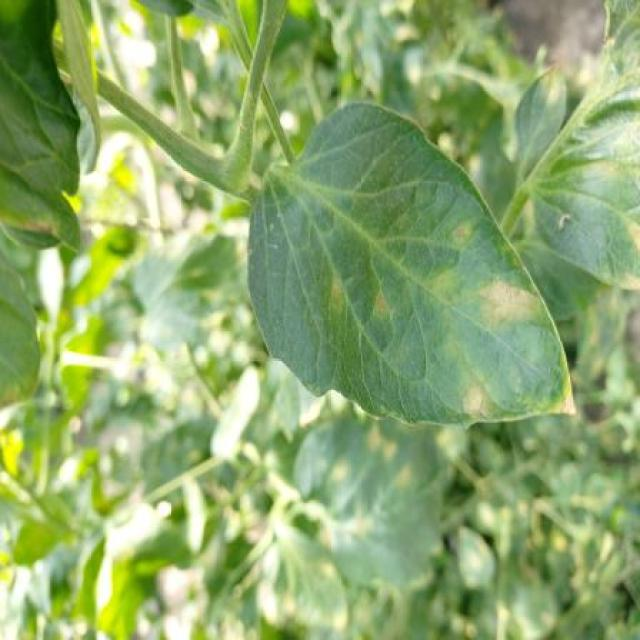Leaf Mold: (247, 103, 576, 428)
